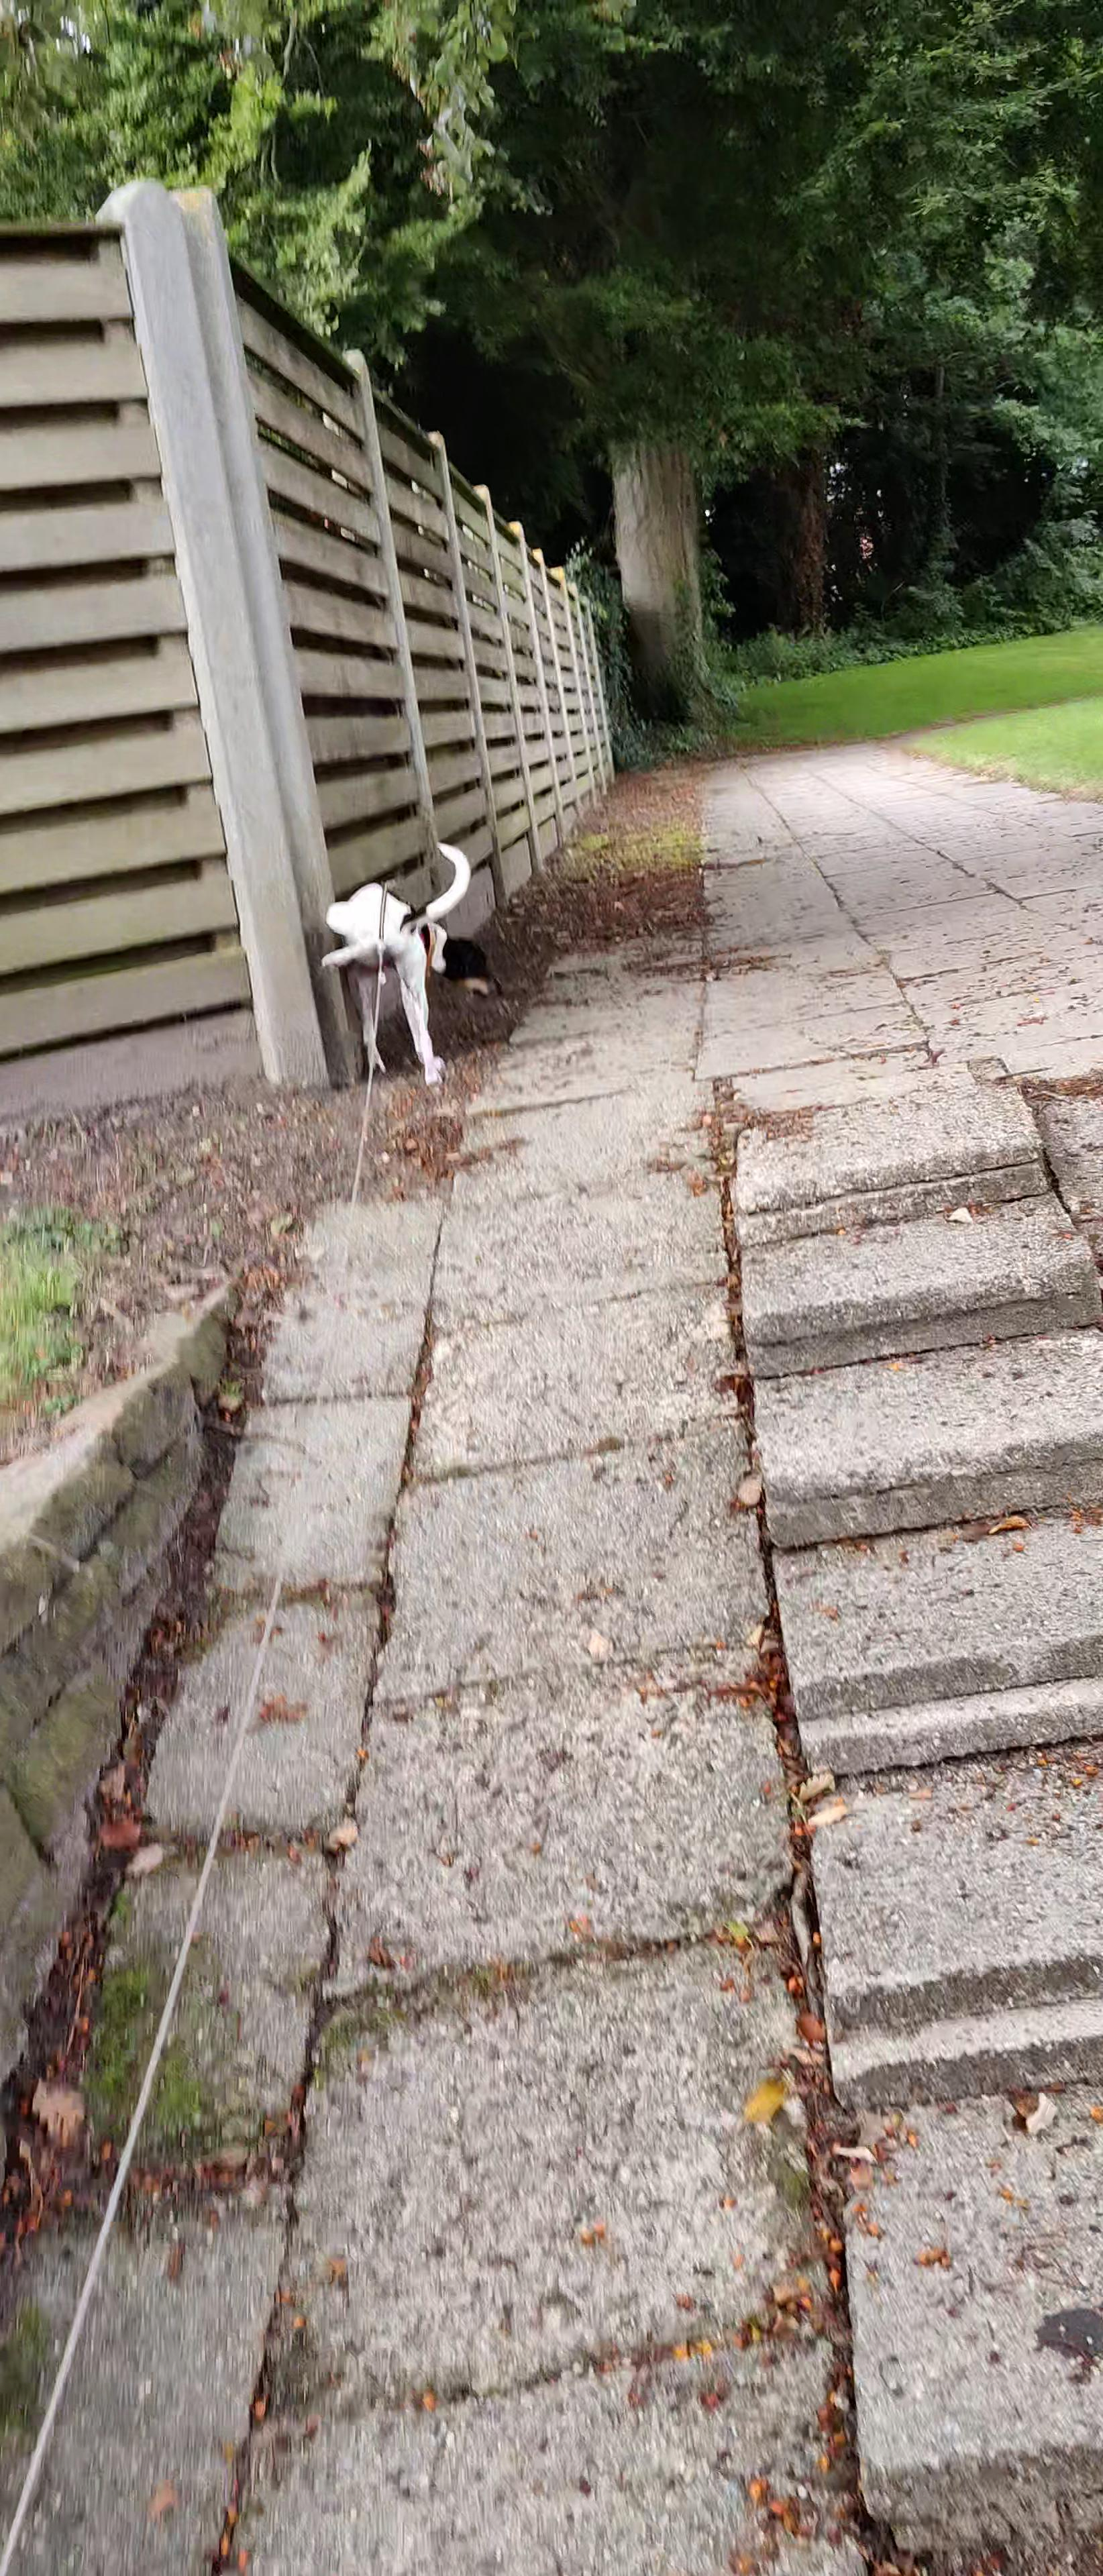Dog: (307, 835, 503, 1094)
